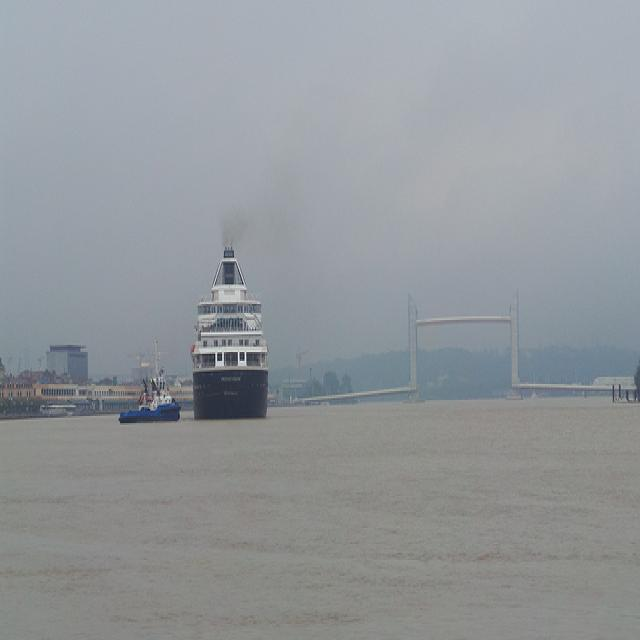fishing boat: (113, 363, 180, 425)
passenger ship: (180, 236, 272, 422)
